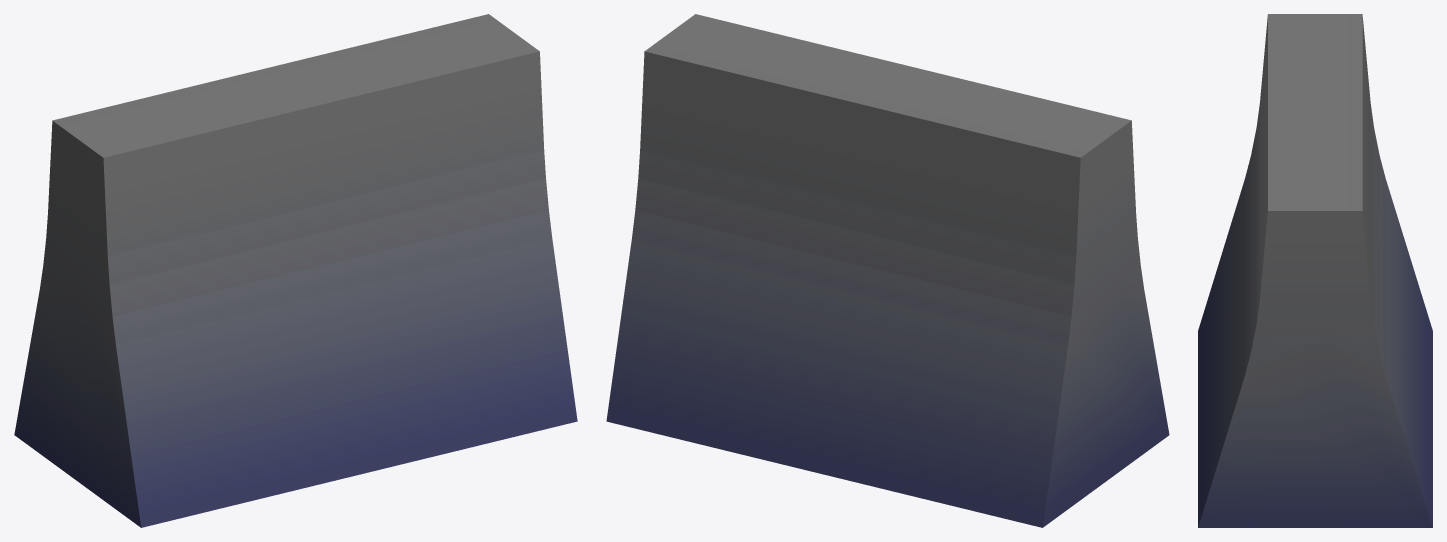
Rendered from ConcreteBarricade2.fbx.
3 views of the same model, side by side, from view 1: azimuth 30°, elevation 25°; view 2: azimuth 150°, elevation 25°; view 3: azimuth 270°, elevation 25° (orthographic). The views are drawn at different scales.
Parts seen in each view (by area): view 1: Cube; view 2: Cube; view 3: Cube.
Boxes of the visible parts, x1,y1,x2,y2 form: Cube: (14, 14, 577, 527); Cube: (606, 14, 1169, 527); Cube: (1198, 14, 1432, 527).
Bounding box in the file's own units: 396 × 297 × 200.
